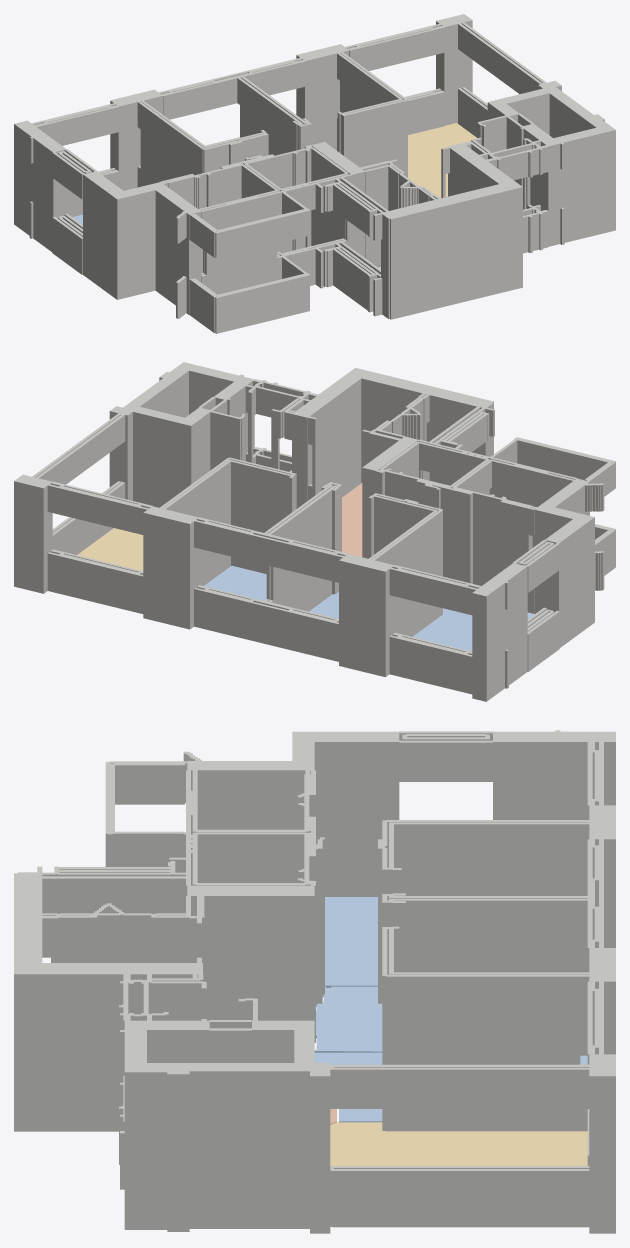
3 renders of one model, top to bottom at view 1: azimuth 30°, elevation 25°; view 2: azimuth 150°, elevation 25°; view 3: azimuth 270°, elevation 25°, orthographic. The views are drawn at different scales.
Visible parts, largest first — view 1: walls, room:living:6; view 2: walls, room:living:6, room:bedroom:0, room:bedroom:3, room:kitchen:9; view 3: walls, room:living:6, room:bedroom:0, room:bedroom:1, room:bedroom:3.
Part boxes in pixels (x1,y1,x2,y2): walls: (14,14,615,333); room:living:6: (408,123,476,197); walls: (14,362,615,701); room:living:6: (77,528,143,570); room:bedroom:0: (412,608,534,651); room:bedroom:3: (204,565,266,600); room:kitchen:9: (342,483,362,557); walls: (14,730,615,1233); room:living:6: (330,1122,587,1165); room:bedroom:0: (325,897,377,988); room:bedroom:1: (314,986,382,1052); room:bedroom:3: (314,1052,587,1122).
Size of the model in its own units: 13.18 by 2.8 by 9.69.
